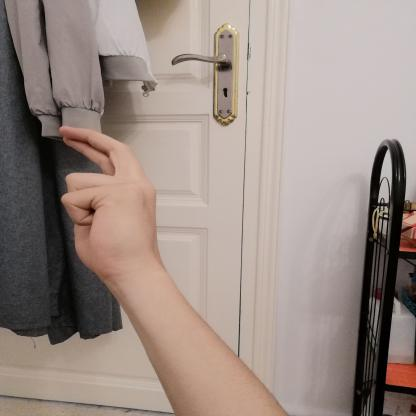ZAY: (44, 119, 166, 287)
